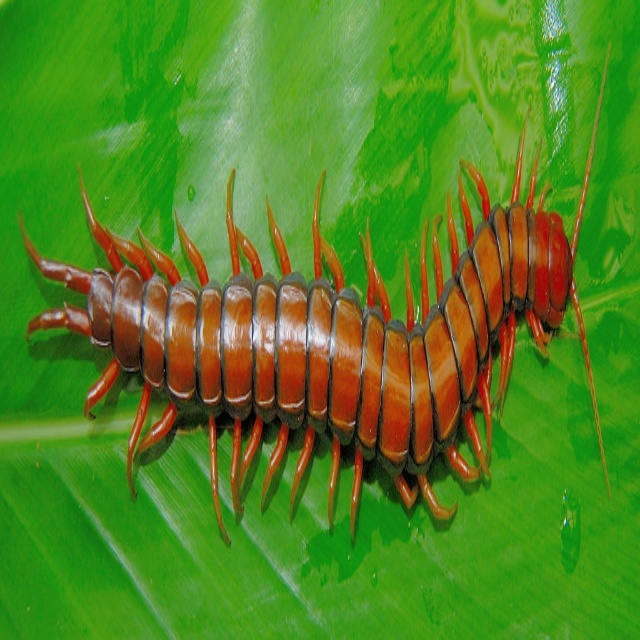Centipede: (25, 45, 609, 547)
